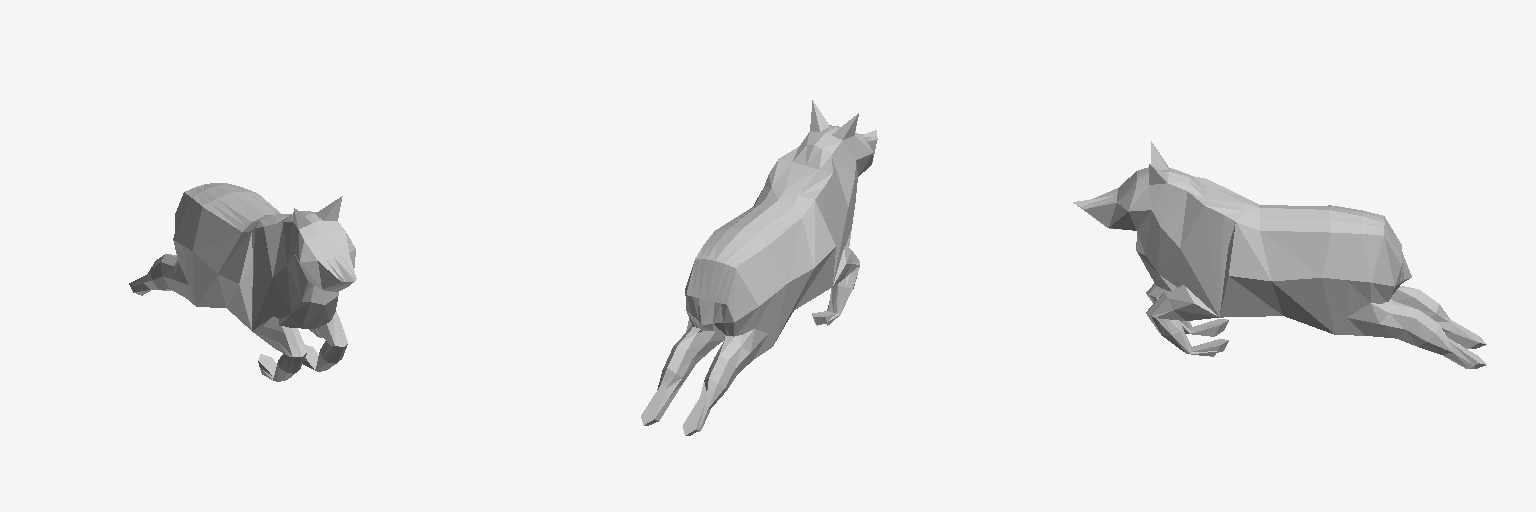
The model's file is piesblendtex_000017.obj.
The picture shows the model from 3 angles: view 1: azimuth 30°, elevation 25°; view 2: azimuth 150°, elevation 25°; view 3: azimuth 270°, elevation 25°; orthographic projection.
Visible parts, largest first — view 1: Cube; view 2: Cube; view 3: Cube.
Boxes of the visible parts, <box> form: Cube: <box>129,183,356,381</box>; Cube: <box>641,100,877,435</box>; Cube: <box>1073,141,1486,368</box>.
Bounding box in the file's own units: 2.56 × 5.94 × 10.82.